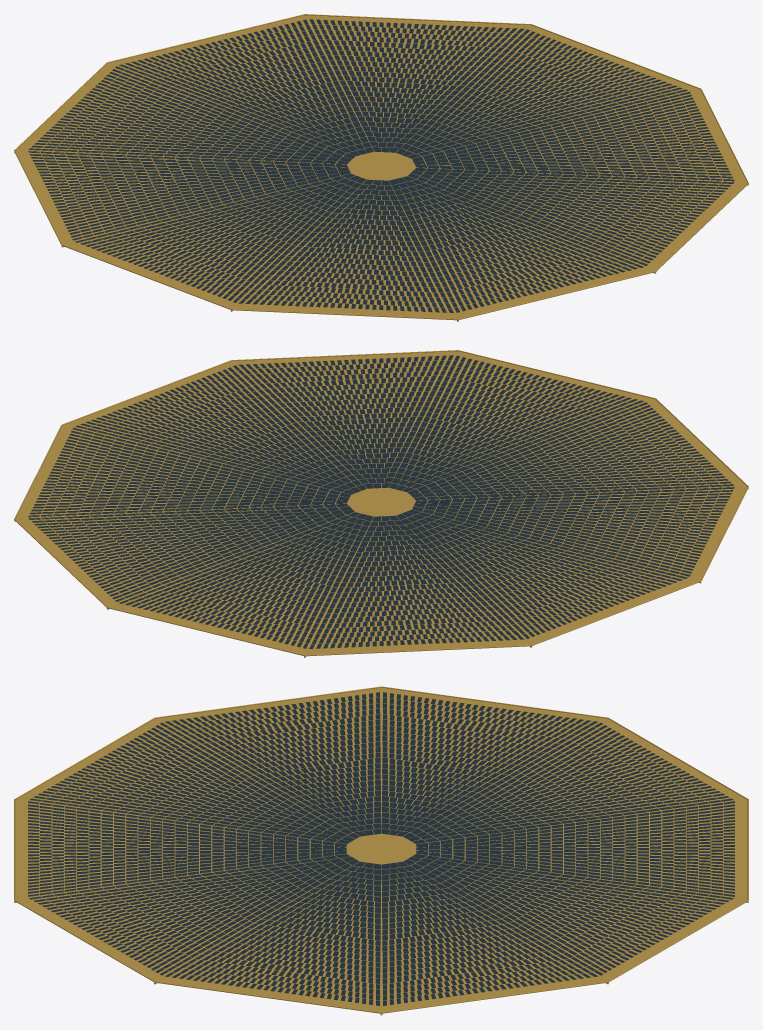
The model's file is insight-solar.glb.
The picture shows the model from 3 angles, top to bottom: view 1: azimuth 30°, elevation 25°; view 2: azimuth 150°, elevation 25°; view 3: azimuth 270°, elevation 25°; orthographic projection. The views are drawn at different scales.
Visible parts, largest first — view 1: ULTRAFLEX_BACKING_SEIS_gold_plated_thermal_hardware, CELL_PETAL_SURFACE_0_0, CELL_PETAL_SURFACE_5_0, CELL_PETAL_SURFACE_1_0, CELL_PETAL_SURFACE_6_0, CELL_PETAL_SURFACE_9_0, CELL_PETAL_SURFACE_4_0, CELL_PETAL_SURFACE_2_0, CELL_PETAL_SURFACE_7_0, CELL_PETAL_SURFACE_8_0, CELL_PETAL_SURFACE_3_0, GLASS_PETAL_SURFACE_8_0 (+9 smaller); view 2: ULTRAFLEX_BACKING_SEIS_gold_plated_thermal_hardware, CELL_PETAL_SURFACE_4_0, CELL_PETAL_SURFACE_9_0, CELL_PETAL_SURFACE_3_0, CELL_PETAL_SURFACE_8_0, CELL_PETAL_SURFACE_5_0, CELL_PETAL_SURFACE_0_0, CELL_PETAL_SURFACE_2_0, CELL_PETAL_SURFACE_7_0, CELL_PETAL_SURFACE_1_0, CELL_PETAL_SURFACE_6_0, GLASS_PETAL_SURFACE_6_0 (+9 smaller); view 3: ULTRAFLEX_BACKING_SEIS_gold_plated_thermal_hardware, CELL_PETAL_SURFACE_7_0, CELL_PETAL_SURFACE_2_0, CELL_PETAL_SURFACE_6_0, CELL_PETAL_SURFACE_8_0, CELL_PETAL_SURFACE_3_0, CELL_PETAL_SURFACE_1_0, CELL_PETAL_SURFACE_9_0, CELL_PETAL_SURFACE_0_0, CELL_PETAL_SURFACE_5_0, CELL_PETAL_SURFACE_4_0, GLASS_PETAL_SURFACE_5_0 (+9 smaller).
Boxes of the visible parts, x1=… form: ULTRAFLEX_BACKING_SEIS_gold_plated_thermal_hardware: x1=14, y1=14, x2=748, y2=321; CELL_PETAL_SURFACE_0_0: x1=412, y1=91, x2=734, y2=181; CELL_PETAL_SURFACE_5_0: x1=28, y1=151, x2=350, y2=240; CELL_PETAL_SURFACE_1_0: x1=408, y1=168, x2=733, y2=265; CELL_PETAL_SURFACE_6_0: x1=28, y1=66, x2=354, y2=164; CELL_PETAL_SURFACE_9_0: x1=396, y1=29, x2=687, y2=158; CELL_PETAL_SURFACE_4_0: x1=75, y1=173, x2=366, y2=302; CELL_PETAL_SURFACE_2_0: x1=389, y1=176, x2=643, y2=312; CELL_PETAL_SURFACE_7_0: x1=119, y1=19, x2=373, y2=156; CELL_PETAL_SURFACE_8_0: x1=309, y1=19, x2=524, y2=152; CELL_PETAL_SURFACE_3_0: x1=238, y1=179, x2=453, y2=312; GLASS_PETAL_SURFACE_8_0: x1=310, y1=20, x2=522, y2=151; ULTRAFLEX_BACKING_SEIS_gold_plated_thermal_hardware: x1=14, y1=350, x2=748, y2=657; CELL_PETAL_SURFACE_4_0: x1=412, y1=487, x2=734, y2=576; CELL_PETAL_SURFACE_9_0: x1=28, y1=427, x2=350, y2=517; CELL_PETAL_SURFACE_3_0: x1=408, y1=402, x2=733, y2=500; CELL_PETAL_SURFACE_8_0: x1=29, y1=504, x2=354, y2=601; CELL_PETAL_SURFACE_5_0: x1=396, y1=509, x2=687, y2=638; CELL_PETAL_SURFACE_0_0: x1=75, y1=365, x2=366, y2=494; CELL_PETAL_SURFACE_2_0: x1=389, y1=355, x2=643, y2=492; CELL_PETAL_SURFACE_7_0: x1=119, y1=512, x2=373, y2=648; CELL_PETAL_SURFACE_1_0: x1=239, y1=355, x2=453, y2=488; CELL_PETAL_SURFACE_6_0: x1=309, y1=515, x2=524, y2=648; GLASS_PETAL_SURFACE_6_0: x1=310, y1=516, x2=522, y2=648; ULTRAFLEX_BACKING_SEIS_gold_plated_thermal_hardware: x1=14, y1=686, x2=748, y2=1015; CELL_PETAL_SURFACE_7_0: x1=416, y1=801, x2=734, y2=896; CELL_PETAL_SURFACE_2_0: x1=28, y1=801, x2=346, y2=896; CELL_PETAL_SURFACE_6_0: x1=403, y1=722, x2=733, y2=844; CELL_PETAL_SURFACE_8_0: x1=403, y1=854, x2=733, y2=975; CELL_PETAL_SURFACE_3_0: x1=30, y1=722, x2=359, y2=844; CELL_PETAL_SURFACE_1_0: x1=29, y1=854, x2=359, y2=975; CELL_PETAL_SURFACE_9_0: x1=381, y1=861, x2=597, y2=1005; CELL_PETAL_SURFACE_0_0: x1=165, y1=861, x2=381, y2=1005; CELL_PETAL_SURFACE_5_0: x1=381, y1=692, x2=597, y2=836; CELL_PETAL_SURFACE_4_0: x1=165, y1=692, x2=381, y2=836; GLASS_PETAL_SURFACE_5_0: x1=382, y1=693, x2=595, y2=835.
Size of the model in its own units: 2.15 by 0.1506 by 2.05.
